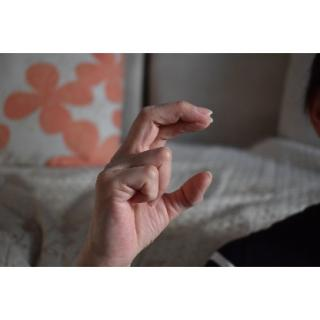DHELL: (90, 92, 230, 261)
